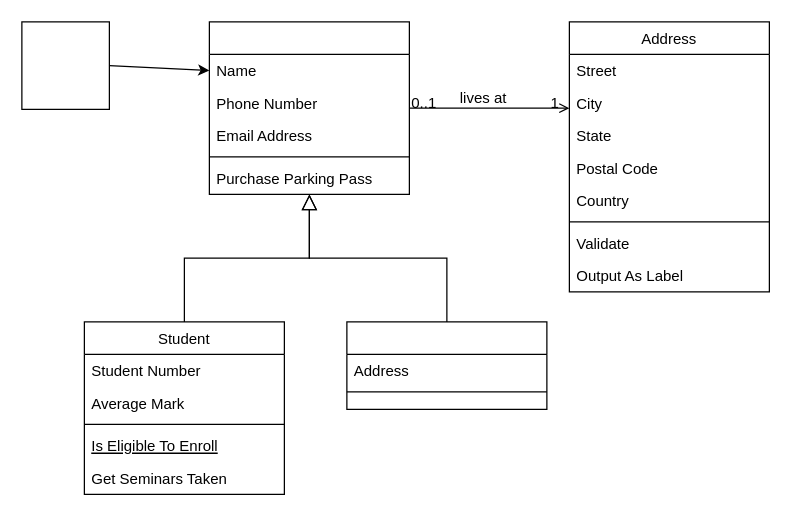
The diagram is 791 pixels wide and 520 high, and some of its shapes have lost their labels. The box of each missing label's shape, as (x1, y1, x2, y2) in pixels:
Dormitory: (346, 321, 547, 409)
Person: (208, 21, 409, 194)
